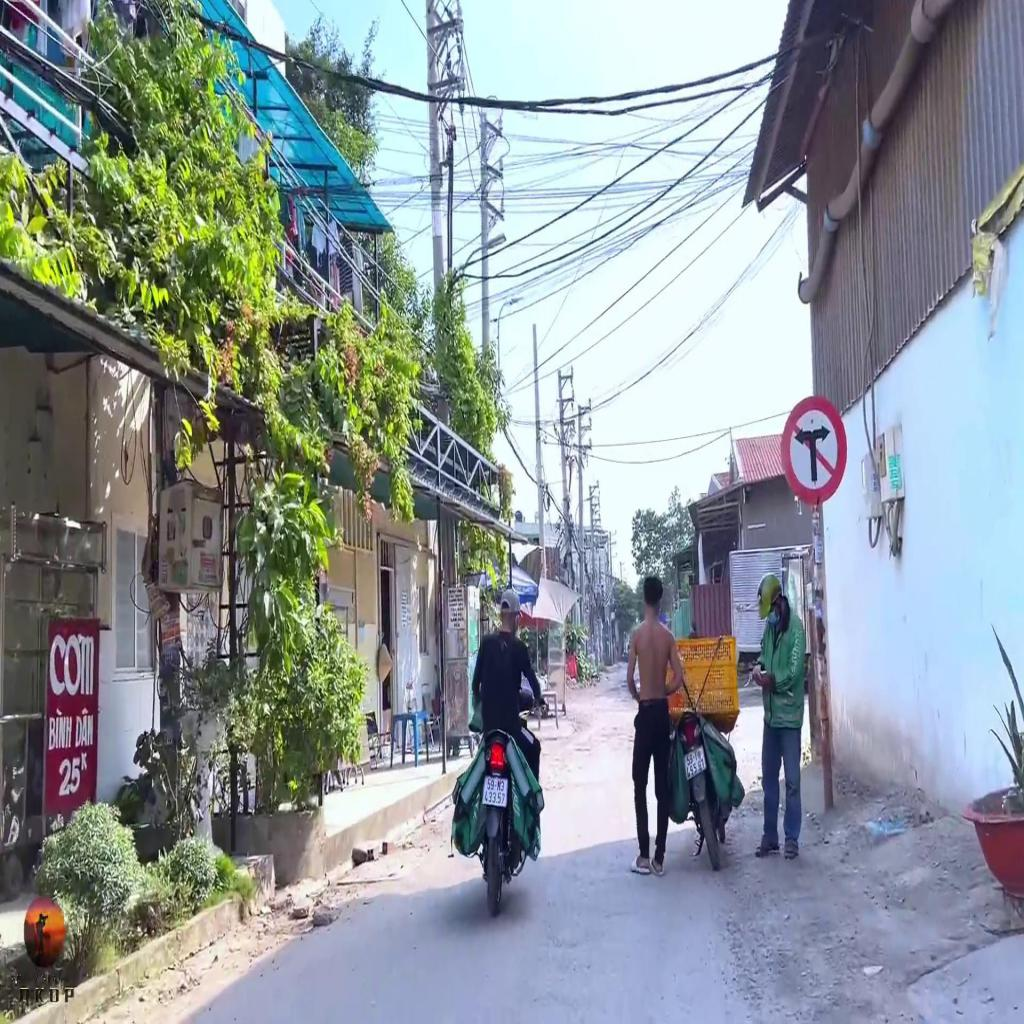cam_re_trai_va_phai: (781, 396, 847, 506)
